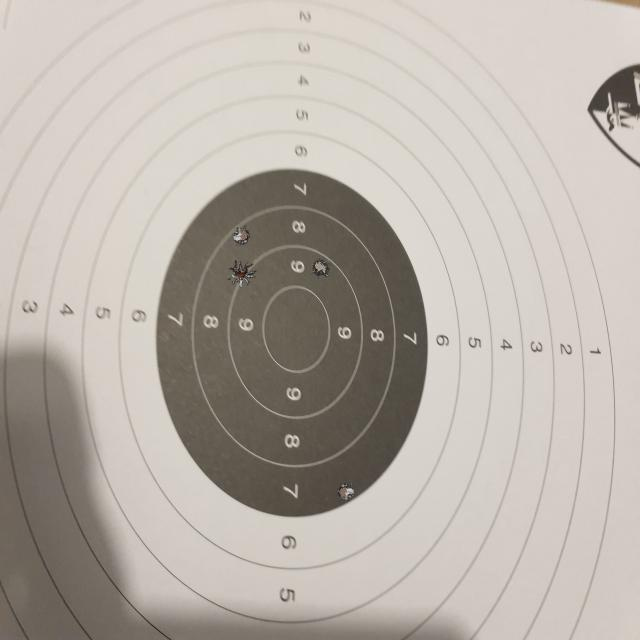7: (336, 481, 357, 505)
8: (231, 226, 251, 247)
9: (227, 260, 258, 289), (310, 258, 332, 280)
Target: (1, 1, 626, 640)
black_contour: (156, 166, 428, 516)
